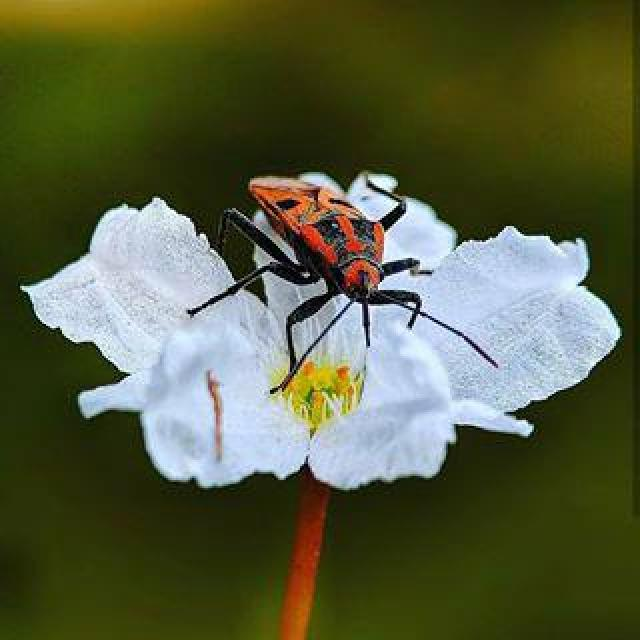Miridae-Adult-: (174, 165, 503, 386)
